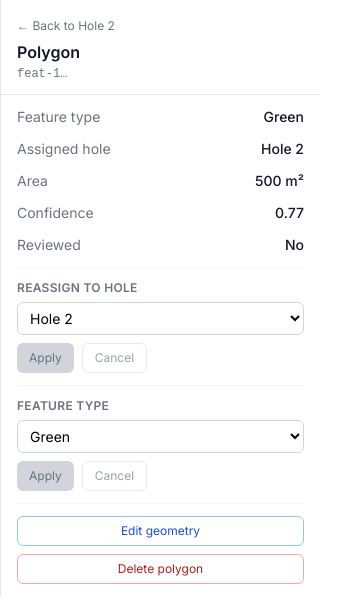
Test: ReassignHoleControl (CorrectionActions) › Apply is disabled until a different hole is staged; Cancel resets selection
This screenshot has width=337, height=613.
expect the button with test id "reassign-hole-apply" is disabled: met, box [17,343,74,373]
expect the button with test id "reassign-hole-cancel" is disabled: met, box [82,343,147,373]
Select "Hole 1" in the dropdown with test id "reassign-hole-select": (160, 318) [17,302,304,335]
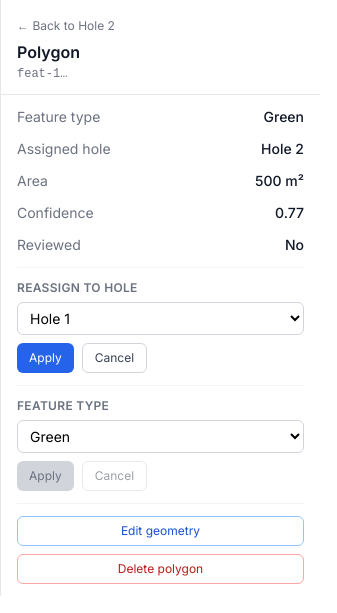
expect the button with test id "reassign-hole-apply" is enabled: met, box [17,343,74,373]
expect the button with test id "reassign-hole-cancel" is enabled: met
Click the button with test id "reassign-hole-cancel": click(114, 358) [82,343,147,373]
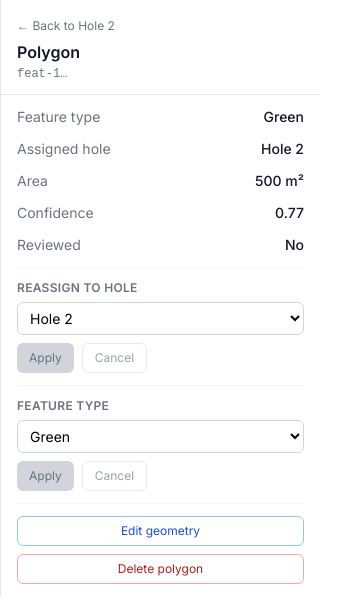
expect the button with test id "reassign-hole-apply" is disabled: met, box [17,343,74,373]
expect the button with test id "reassign-hole-cancel" is disabled: met, box [82,343,147,373]
